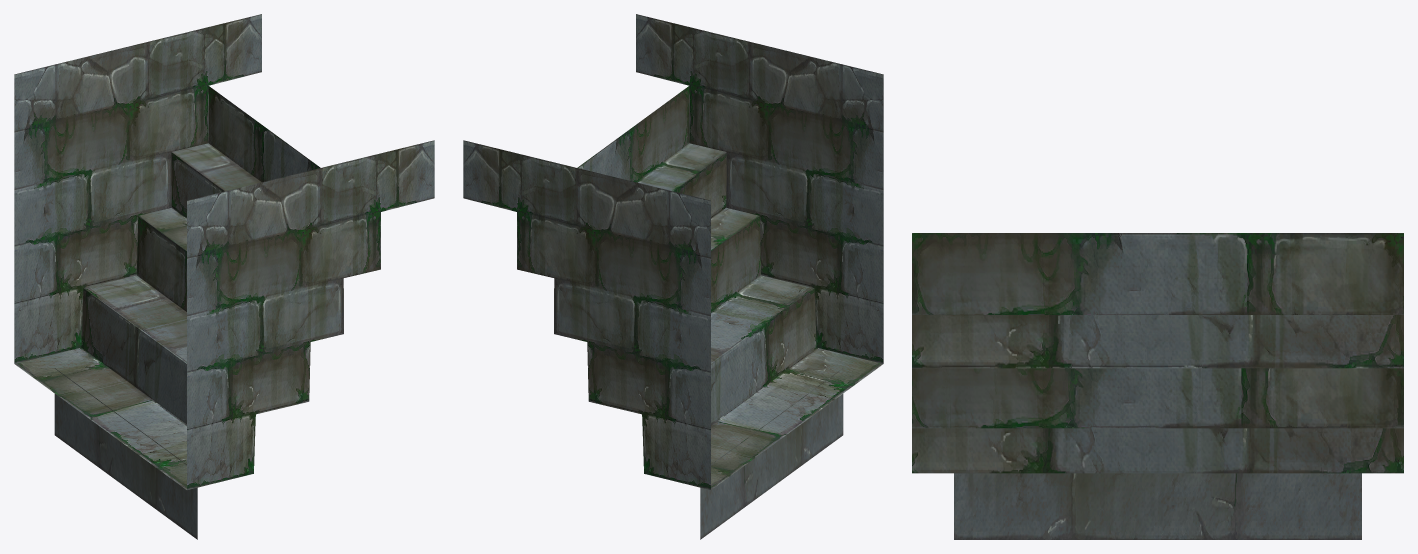
Rendered from stemple_bridgesmall_transition_01.fbx.
3 renders of one model, left to right at view 1: azimuth 30°, elevation 25°; view 2: azimuth 150°, elevation 25°; view 3: azimuth 270°, elevation 25°, orthographic. The views are drawn at different scales.
Visible parts, largest first — view 1: obj0.174; view 2: obj0.174; view 3: obj0.174.
Part boxes in pixels (box(x1,y1,x2,y2)): obj0.174: box(14, 14, 434, 539); obj0.174: box(463, 14, 883, 539); obj0.174: box(912, 233, 1403, 539).
Size of the model in its own units: 4 by 5.5 by 4.83.
